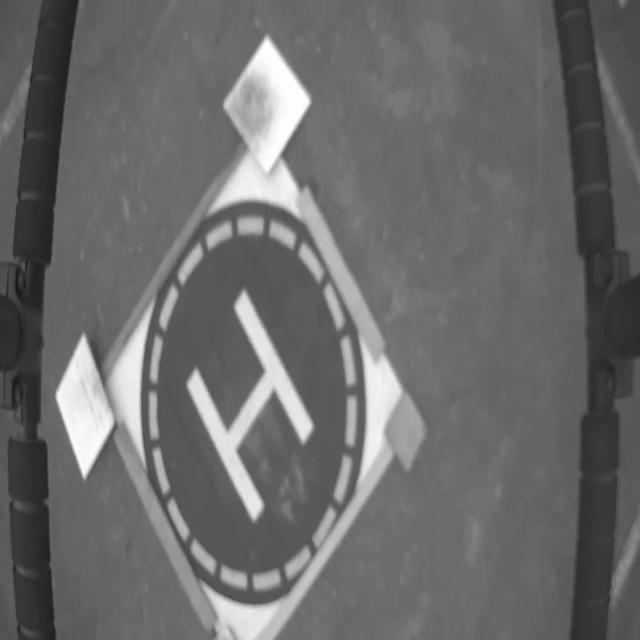Helipad: (186, 288, 316, 524)
